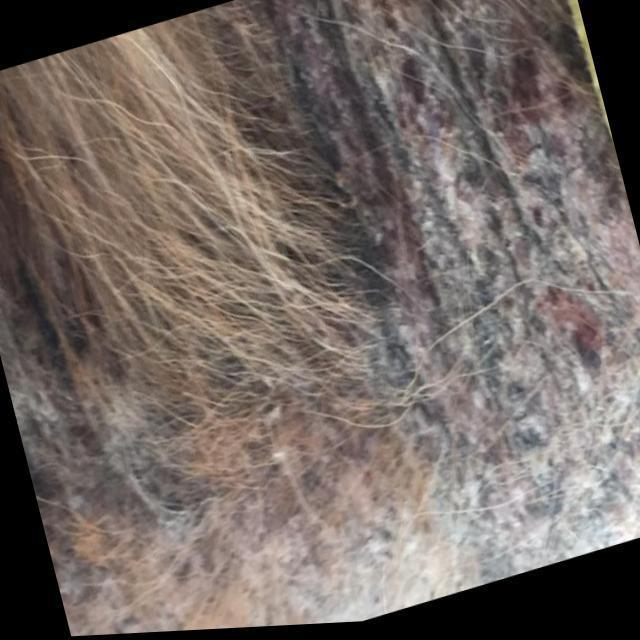mange: (276, 1, 611, 432)
